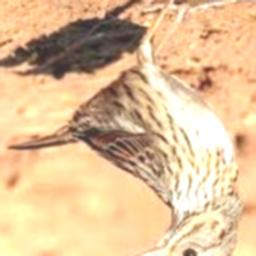Sparrow: (6, 0, 242, 256)
